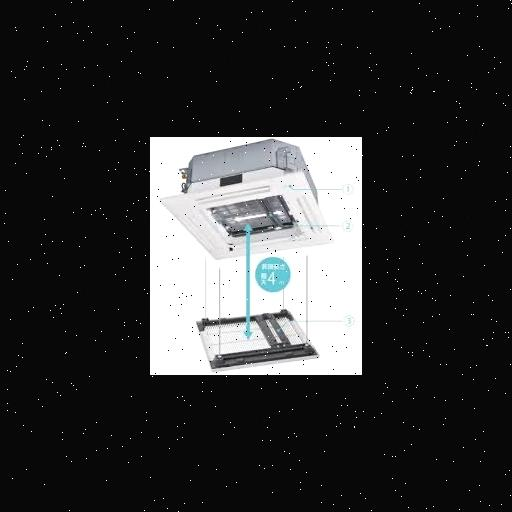4-way-ac: (160, 171, 335, 260)
